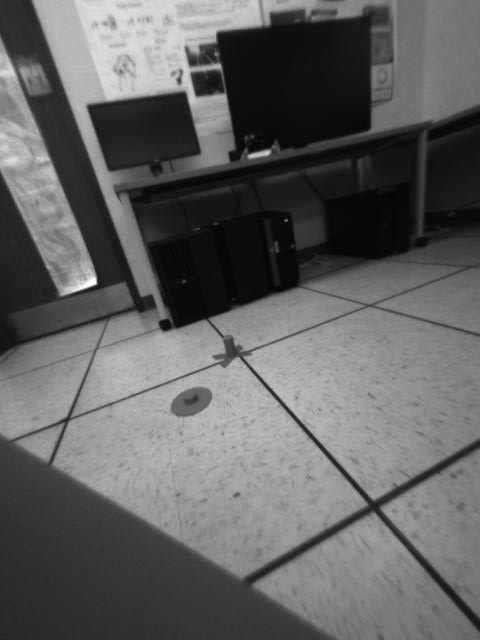X: (211, 335, 252, 369)
